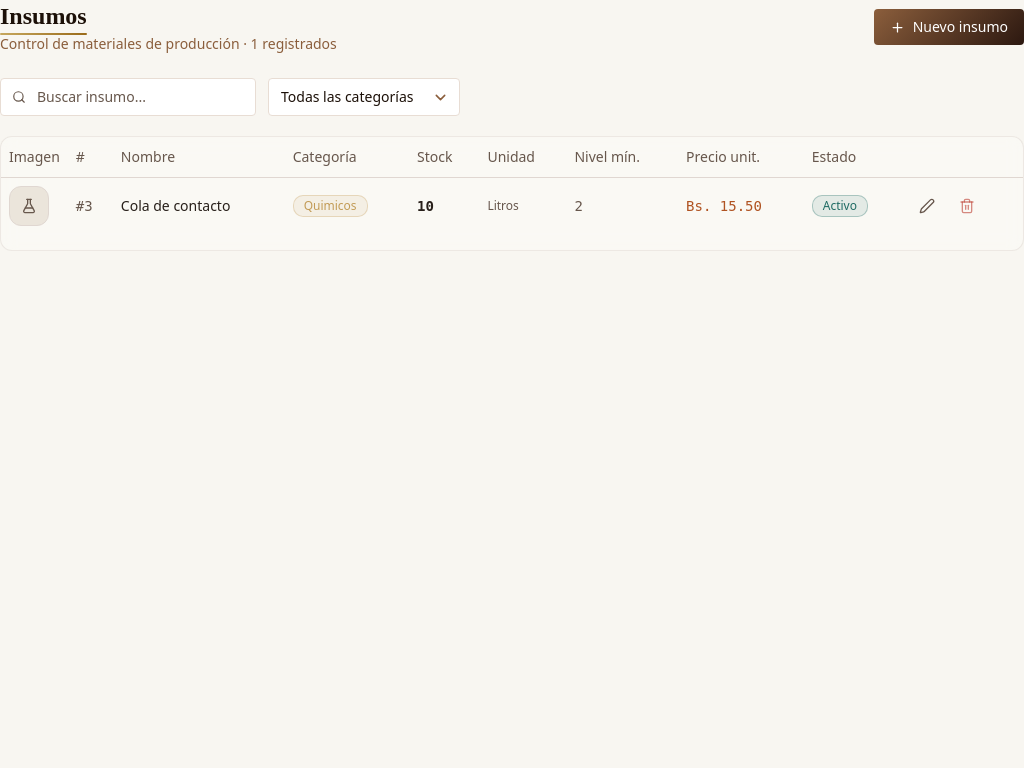
Scenario: InsumosView — editar insumo › precarga el formulario con los datos actuales del insumo (coercionando valores string del backend)
This screenshot has width=1024, height=768.
Expected: the text "Cola de contacto" is shown, [121, 196, 230, 214]
Click the button with class "hover". click: (926, 206)
box: [910, 190, 942, 222]
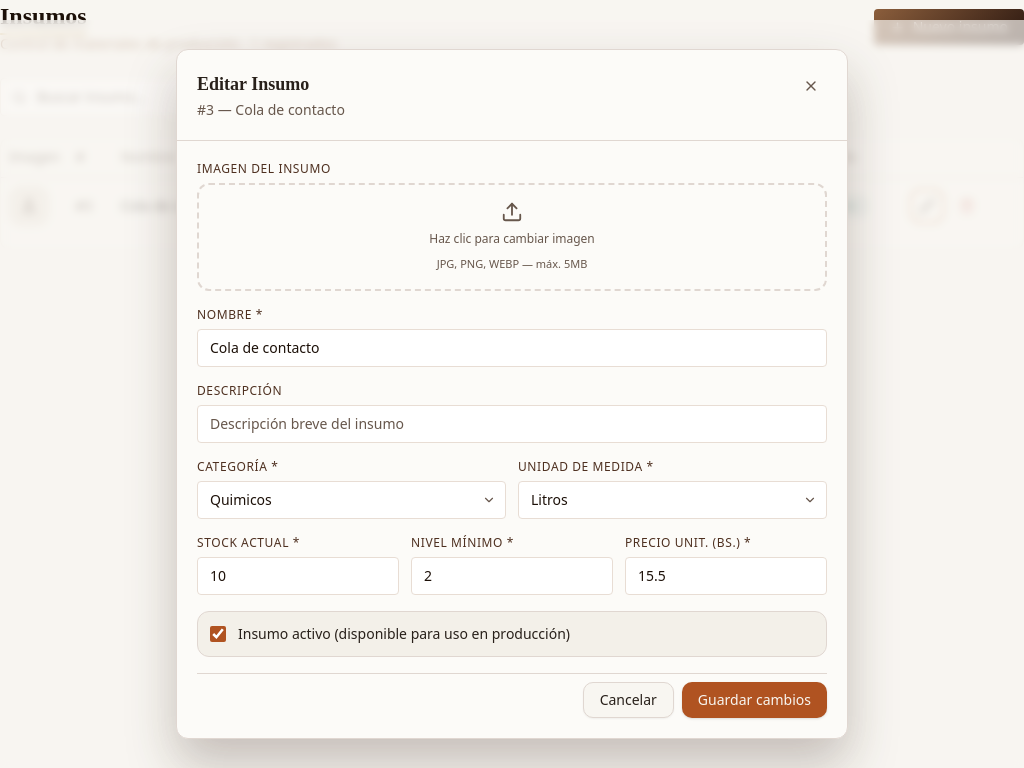
Expected: the heading "Editar Insumo" is shown, [197, 74, 309, 94]
Expected: the field showing "Cola de contacto" below "Nombre *" is shown, [197, 329, 827, 367]
Expected: the field showing "Quimicos" below "Categoría *" is shown, [197, 481, 506, 519]
